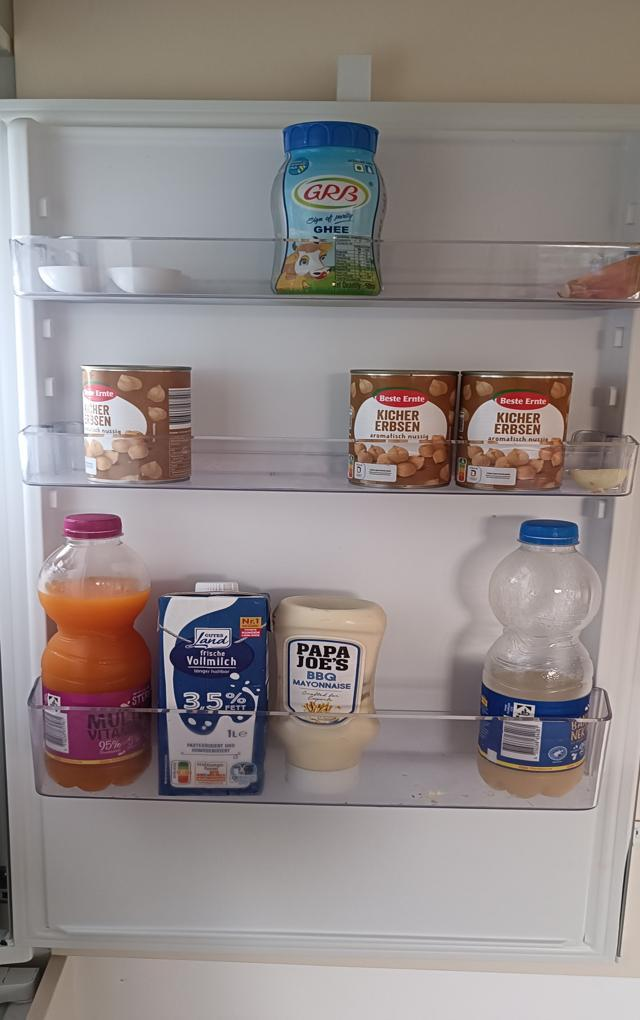bananajuice: (481, 519, 598, 804)
chickpeas: (463, 369, 571, 495), (81, 365, 193, 485), (351, 369, 455, 488)
ghee: (273, 121, 389, 303)
mayoniasie: (274, 592, 389, 790)
milk: (154, 576, 273, 796)
orangejuice: (38, 510, 152, 793)
